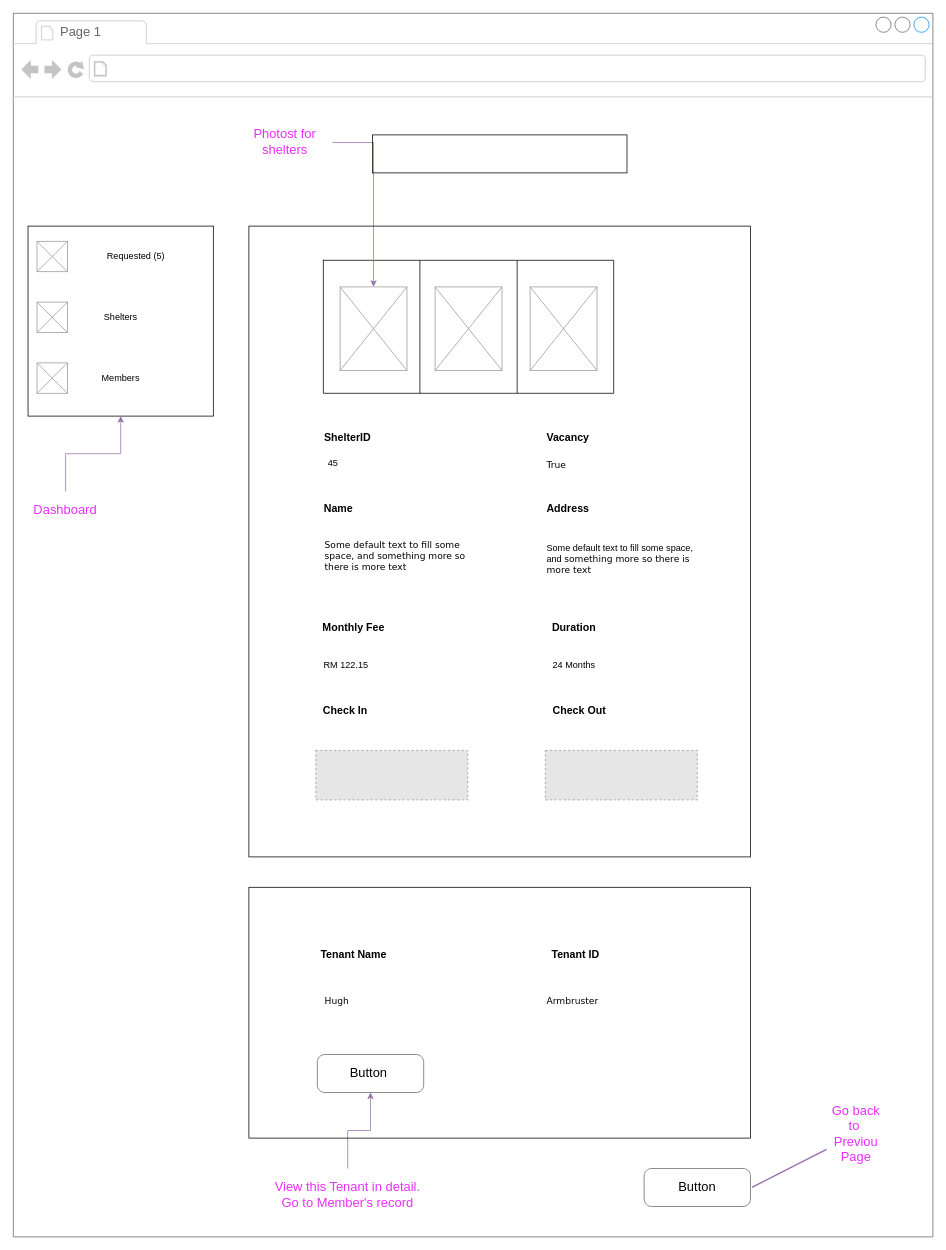
Image size: 946x1250. Some labels were removed from this diagram. Grey dashed boxes stand in for pictures. Here are the shapes that lost their labels. From the top down, the centre of each, then its label:
point (206, 68): https://www.default.com
point (499, 153): Title 1
